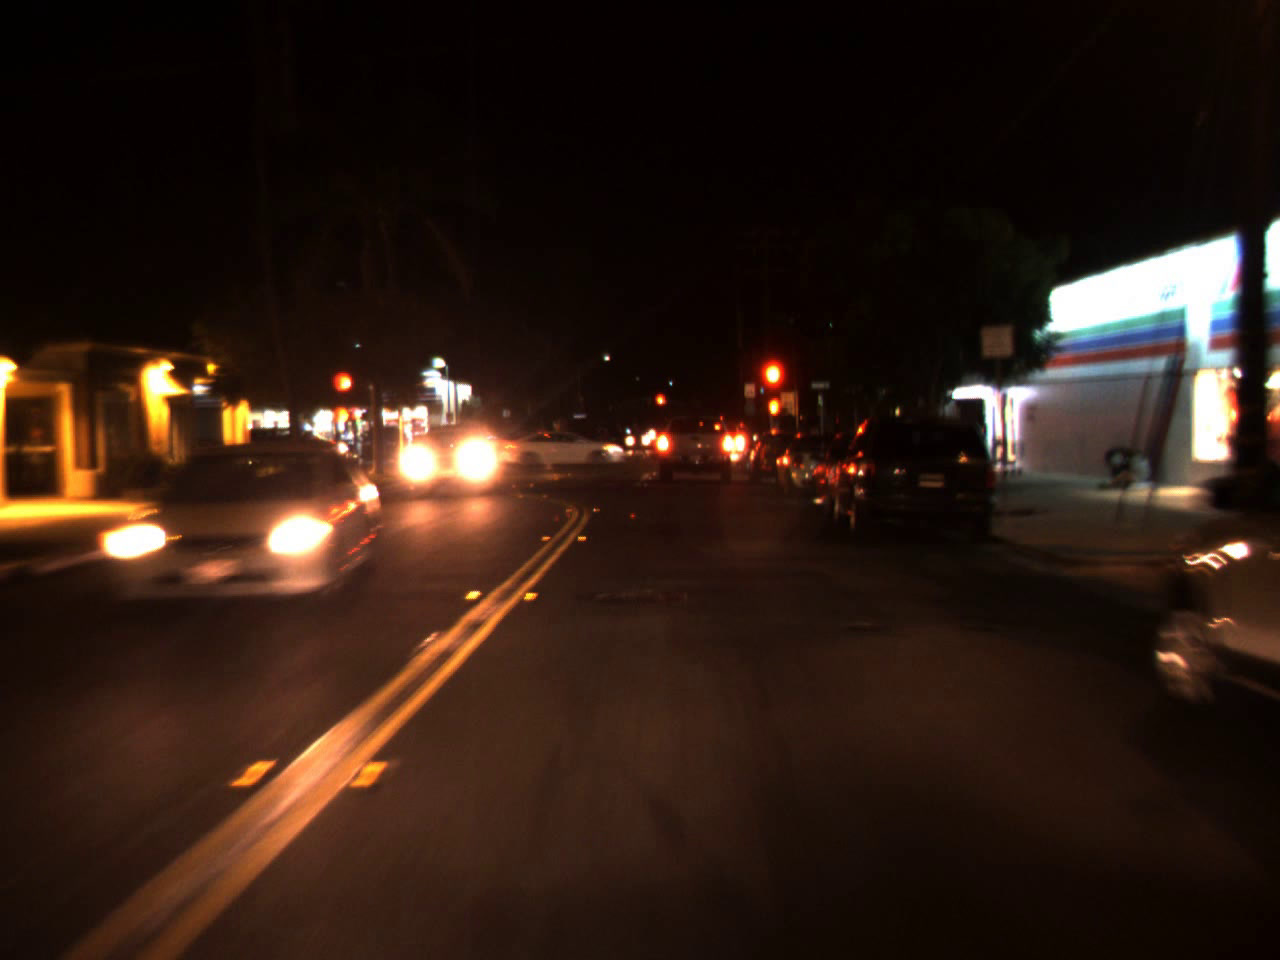stop: (756, 353, 789, 428), (329, 368, 356, 416), (653, 391, 666, 418)
